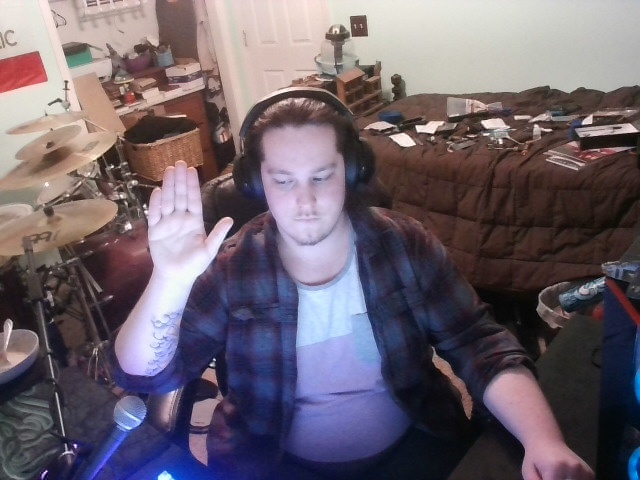hello: (133, 152, 244, 295)
